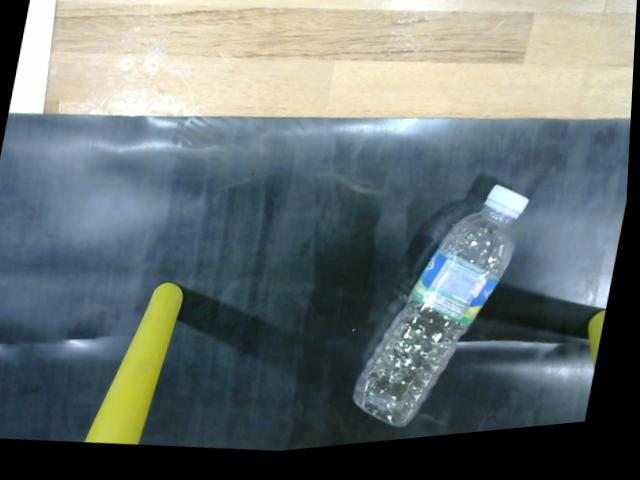bottle: (342, 177, 542, 443)
